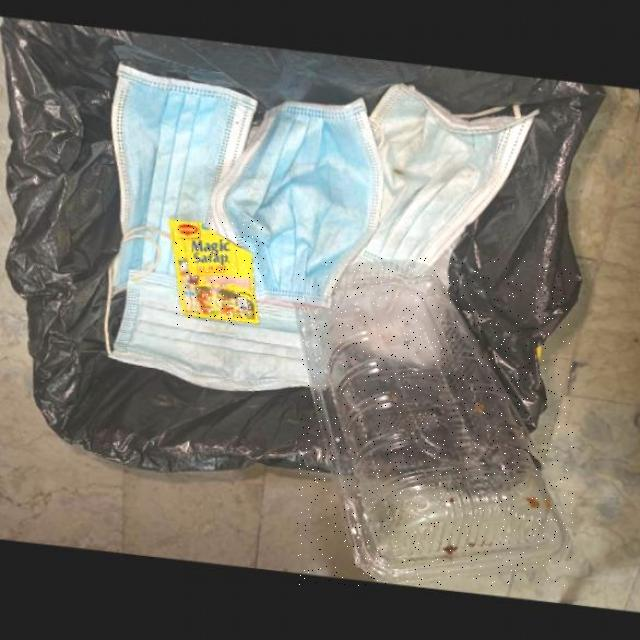plastic: (298, 258, 574, 585)
wrapper: (175, 220, 264, 326)
